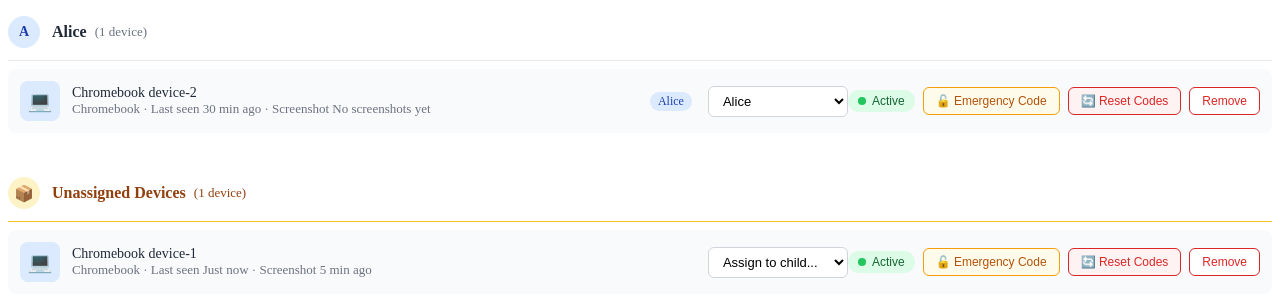
it: DevicesList › Error handling › shows error when assignment fails
The image size is (1280, 299).
Select "Alice" in the dropdown named "Assign to child" in the row of "No screenshots yet" at (778, 101), box [708,86,848,116]
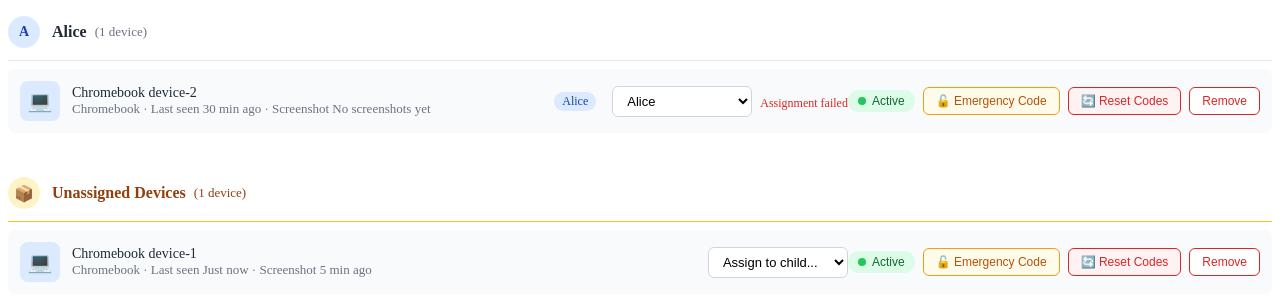
Now the text "Assignment failed" is shown, box [760,96,848,110]
